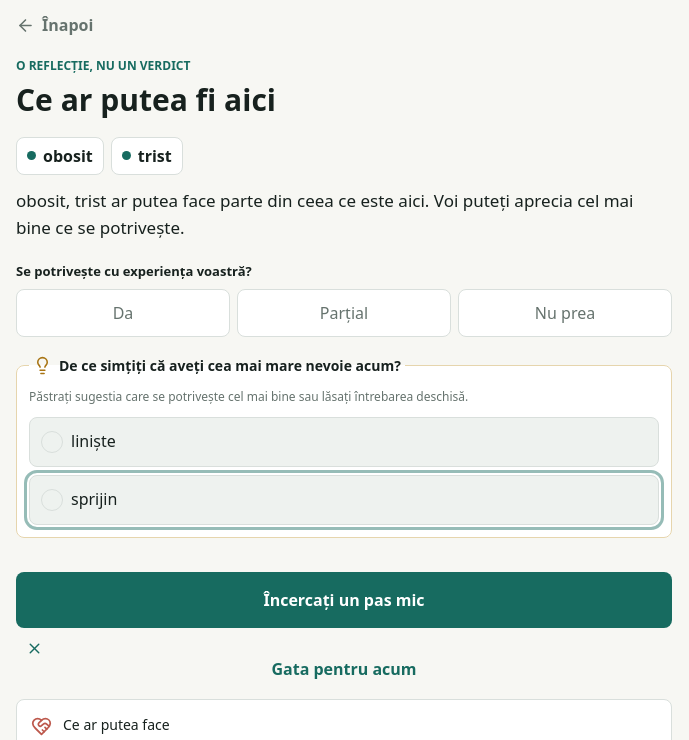
Test: ReflectionScreen need selection › supports Romanian keyboard selection and save-disabled completion
The image size is (689, 740).
Step 1. Press Enter
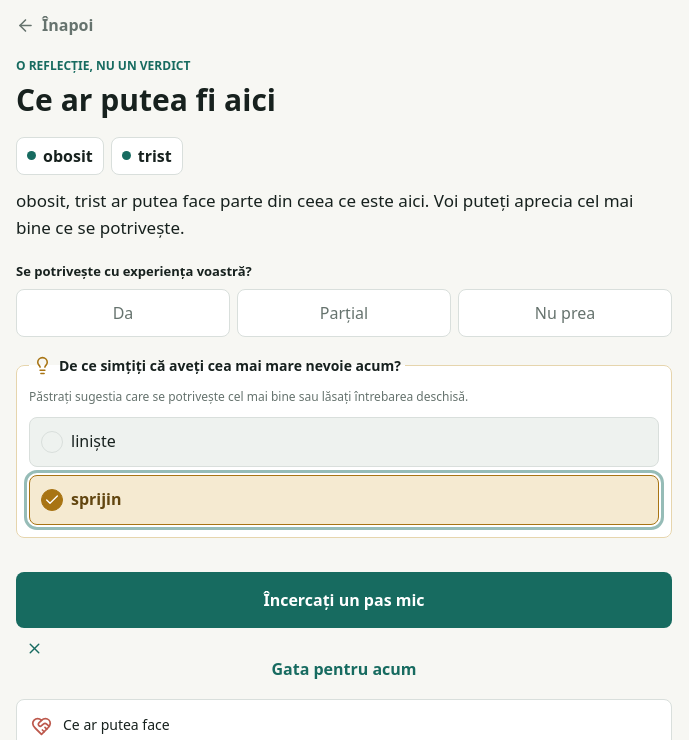
Step 2. Click the button "Gata pentru acum" → click(344, 660), box [16,632,672,689]
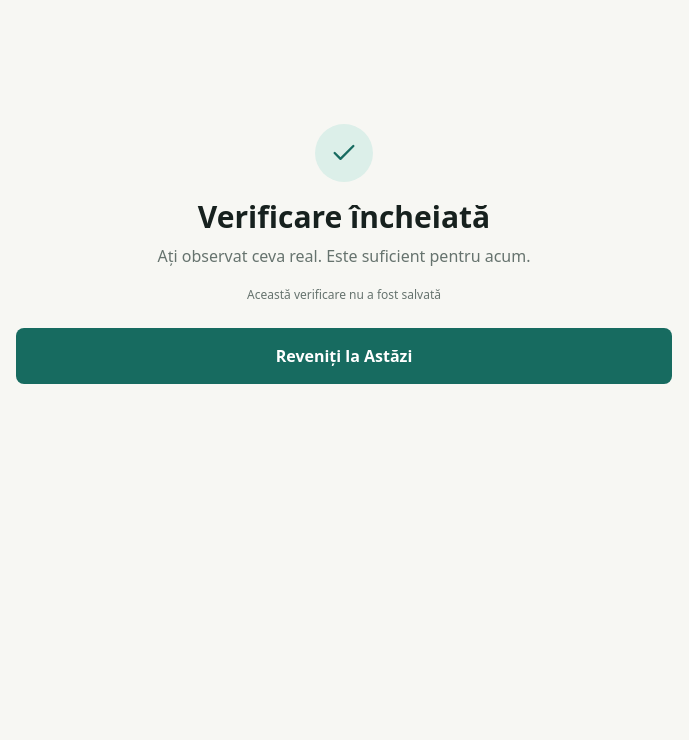
Now the text "Această verificare nu a fost salvată" is shown, box [247,286,441,304]
